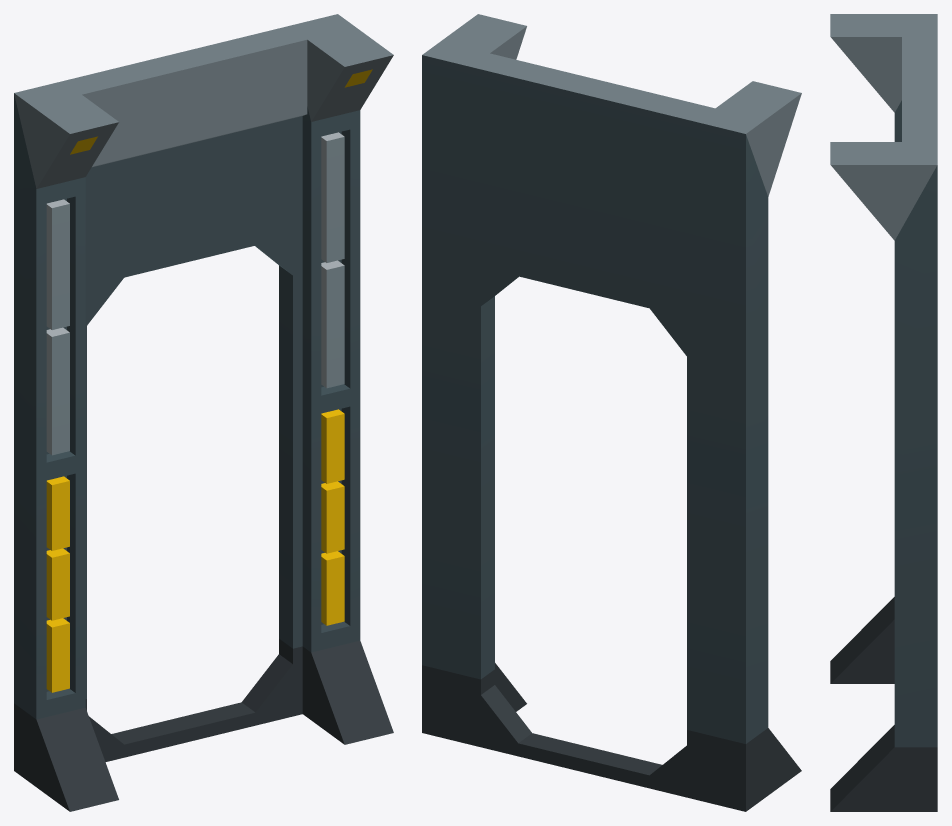
Rendered from Wall_type_C_051.fbx.
3 renders of one model, left to right at view 1: azimuth 30°, elevation 25°; view 2: azimuth 150°, elevation 25°; view 3: azimuth 270°, elevation 25°, orthographic. The views are drawn at different scales.
Visible parts, largest first — view 1: Wall_type_C_051; view 2: Wall_type_C_051; view 3: Wall_type_C_051.
Part boxes in pixels (x1,y1,x2,y2): Wall_type_C_051: (14,14,393,811); Wall_type_C_051: (422,14,801,811); Wall_type_C_051: (830,14,937,811).
Size of the model in its own units: 200 by 60 by 400.
